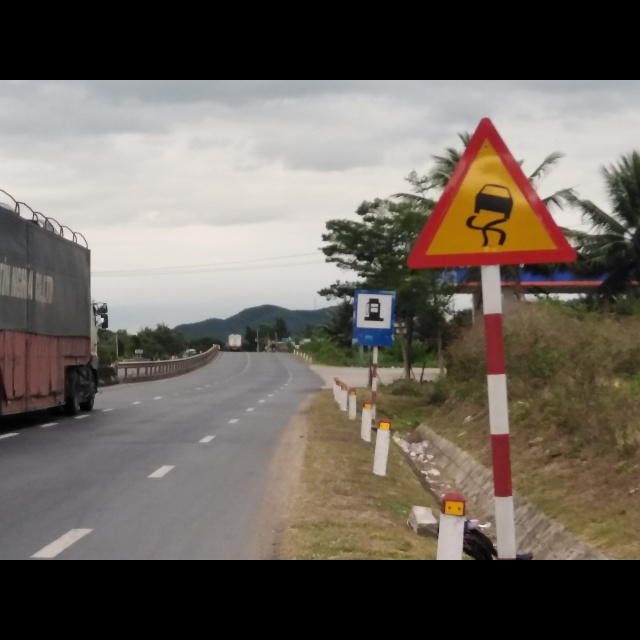Đường trơn trượt: (410, 119, 580, 268)
